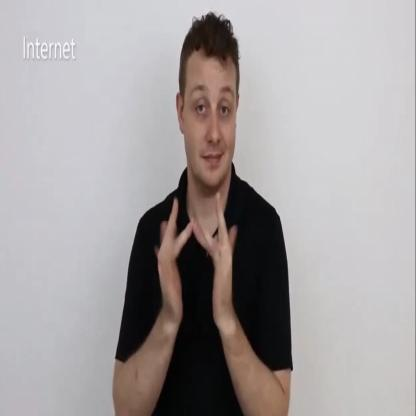Internet: (113, 11, 292, 416)
